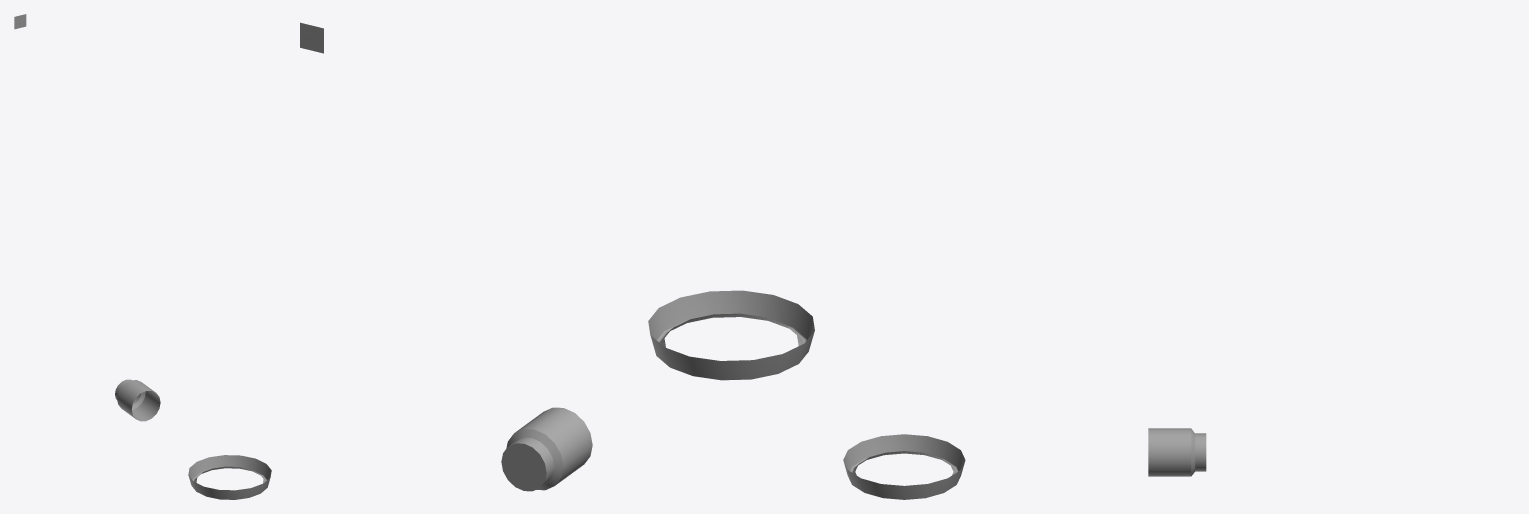
The model's file is MeshCoffeeMachine_2_0_GeomSubset_2.obj.
The picture shows the model from 3 angles, left to right: view 1: azimuth 30°, elevation 25°; view 2: azimuth 150°, elevation 25°; view 3: azimuth 270°, elevation 25°; orthographic projection. The views are drawn at different scales.
Parts seen in each view (by area): view 1: MeshCoffeeMachine_2_0_GeomSubset_2; view 2: MeshCoffeeMachine_2_0_GeomSubset_2; view 3: MeshCoffeeMachine_2_0_GeomSubset_2.
Boxes of the visible parts, x1=… form: MeshCoffeeMachine_2_0_GeomSubset_2: x1=14, y1=14, x2=271, y2=499; MeshCoffeeMachine_2_0_GeomSubset_2: x1=300, y1=22, x2=814, y2=491; MeshCoffeeMachine_2_0_GeomSubset_2: x1=843, y1=428, x2=1206, y2=499.
Bounding box in the file's own units: 0.0606 × 0.2504 × 0.3326.
